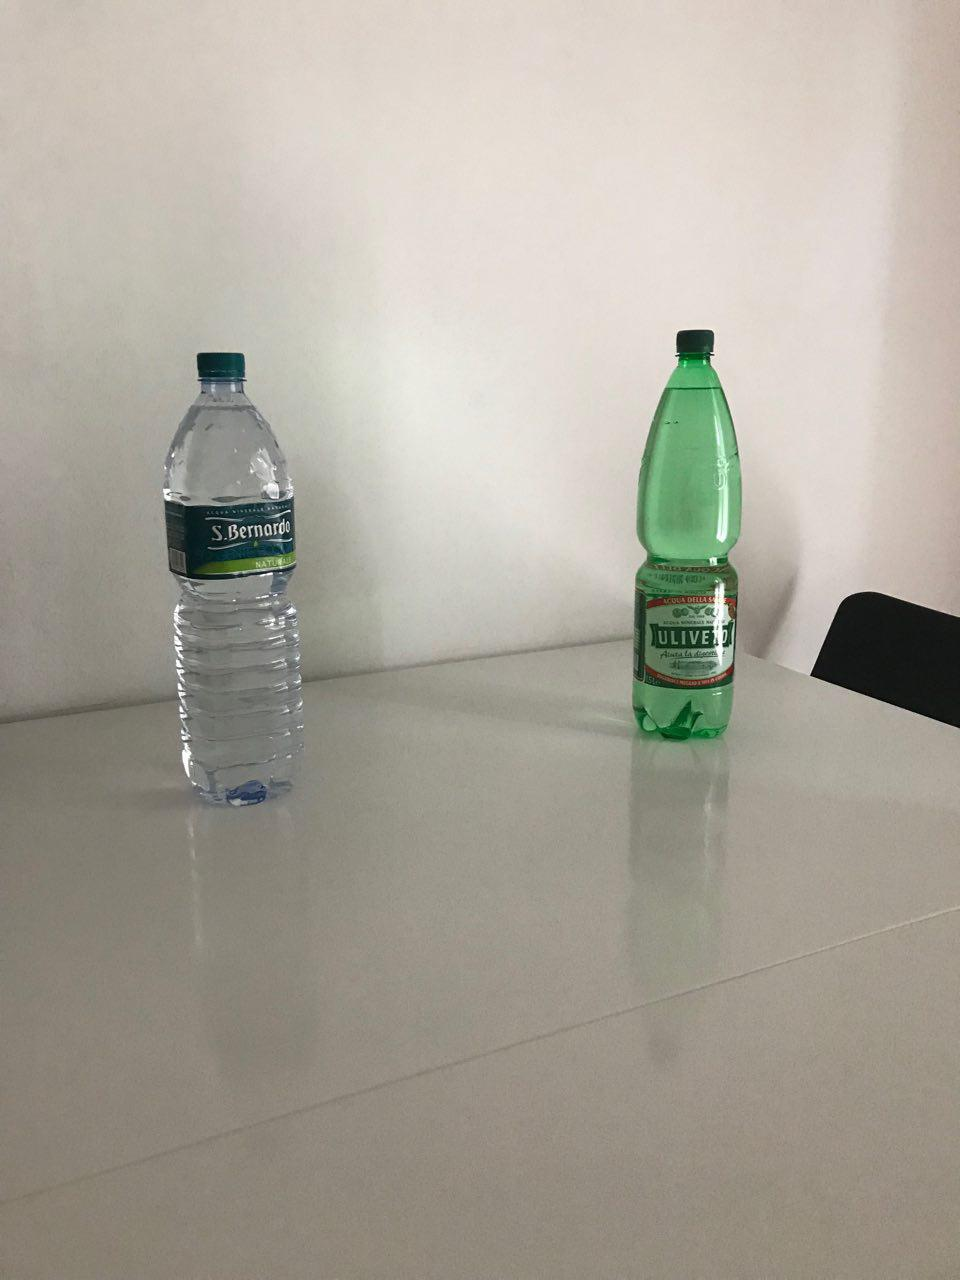san_bernardo: (162, 353, 305, 808)
